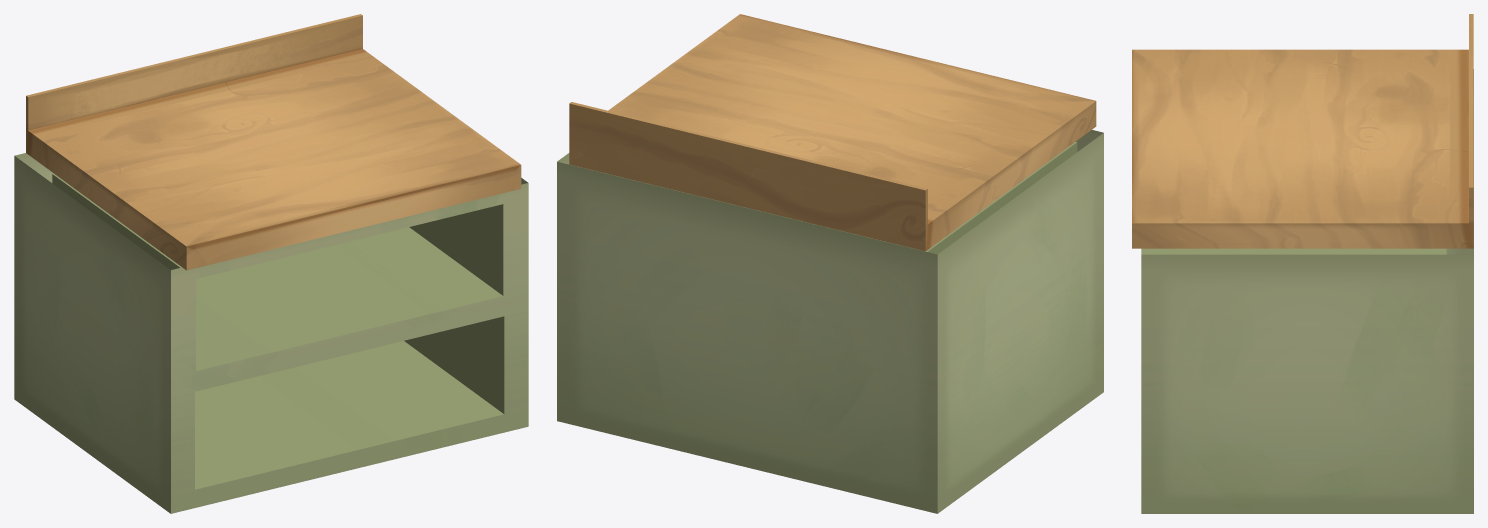
File: Counter MIR.fbx
3 renders of one model, left to right at view 1: azimuth 30°, elevation 25°; view 2: azimuth 150°, elevation 25°; view 3: azimuth 270°, elevation 25°, orthographic. The views are drawn at different scales.
Parts seen in each view (by area): view 1: Counter MIR; view 2: Counter MIR; view 3: Counter MIR.
Boxes of the visible parts, x1,y1,x2,y2 form: Counter MIR: (14,14,528,513); Counter MIR: (557,14,1103,513); Counter MIR: (1132,14,1473,513).
Bounding box in the file's own units: 113 × 90.54 × 87.58.
